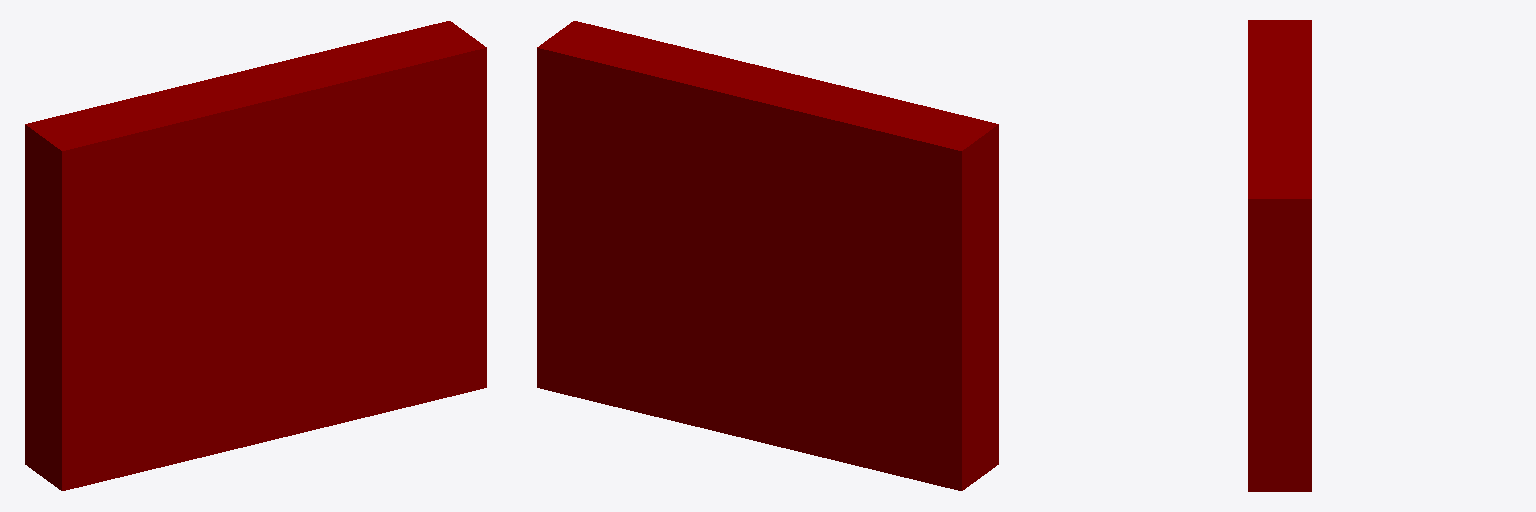
The robot description file, URDF, robot "book":
<robot name="book">
  <link name="book_body">
    <collision>
      <origin xyz="0 0 0" />
      <geometry>
        <box size="0.251 0.038 0.192" />
      </geometry>
      <inertial>
          <mass value="0.01"/>
          <inertia ixx="0.05" ixy="0.0" ixz="0.0" iyy="0.05" iyz="0.0" izz="0.05"/>
      </inertial>
    </collision>
    <visual>
      <origin xyz="0 0 0" />
      <material name="c">
        <color rgba="0.6 0.0 0.0 1.0" />
      </material>
      <geometry>
        <box size="0.251 0.038 0.192" />
      </geometry>
    </visual>
  </link>
</robot>

--- Facts derived from the render (not from the file) ---
Views: 3 orthographic renders of the robot side by side, from view 1: azimuth 30°, elevation 25°; view 2: azimuth 150°, elevation 25°; view 3: azimuth 270°, elevation 25°.
Model book with 1 links and 0 joints (none), rooted at book_body, posed all joints at 0.
Links seen in each view (by area): view 1: book_body; view 2: book_body; view 3: book_body.
Boxes of the visible links, x1,y1,x2,y2 form: book_body: [25, 21, 486, 490]; book_body: [537, 21, 998, 490]; book_body: [1248, 20, 1311, 491].
Bounding box of the posed robot: 0.251 × 0.038 × 0.192 m (x, y, z).
Geometry: primitives only (box / cylinder / sphere), no mesh files.
